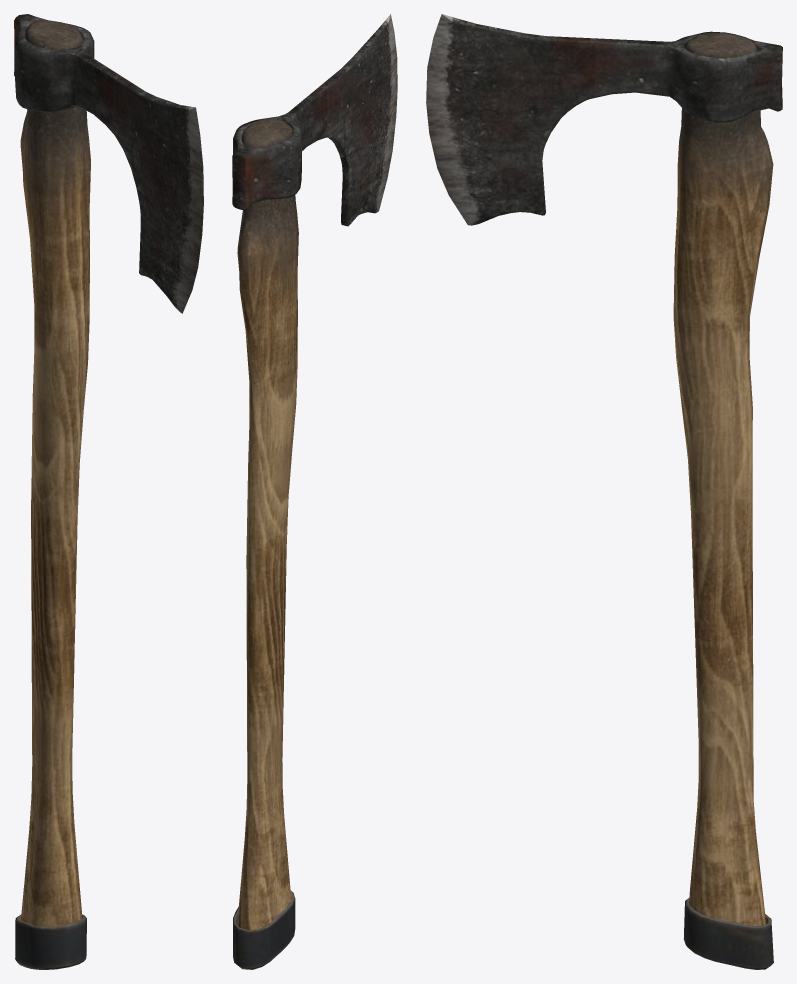
File: wooden_axe.glb
3 renders of one model, left to right at view 1: azimuth 30°, elevation 25°; view 2: azimuth 150°, elevation 25°; view 3: azimuth 270°, elevation 25°, orthographic. The views are drawn at different scales.
Visible parts, largest first — view 1: wooden_axe; view 2: wooden_axe; view 3: wooden_axe.
Boxes of the visible parts, x1,y1,x2,y2 form: wooden_axe: (14, 14, 203, 969); wooden_axe: (232, 14, 397, 969); wooden_axe: (426, 14, 782, 969).
Size of the model in its own units: 0.0472 by 0.6303 by 0.2142.
Materials: 1 (1 with a texture image).
